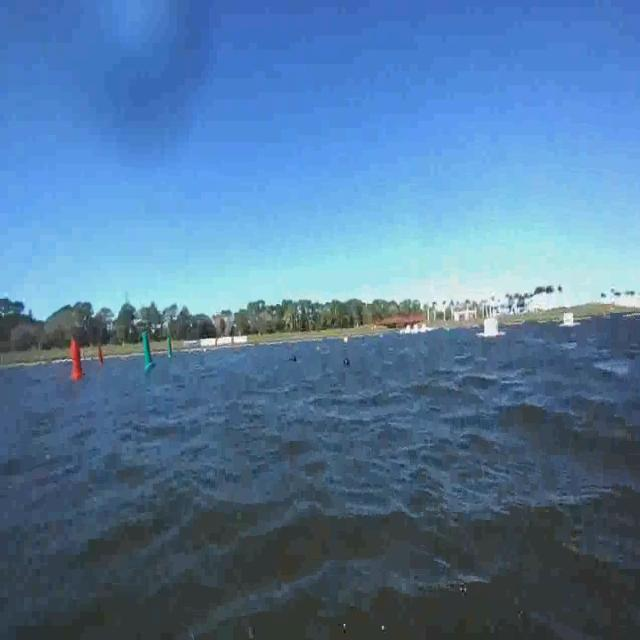black-buoy: (344, 357, 350, 366)
green-column-buoy: (141, 332, 156, 370), (168, 338, 174, 358)
red-column-buoy: (70, 339, 84, 380), (96, 346, 103, 368)
